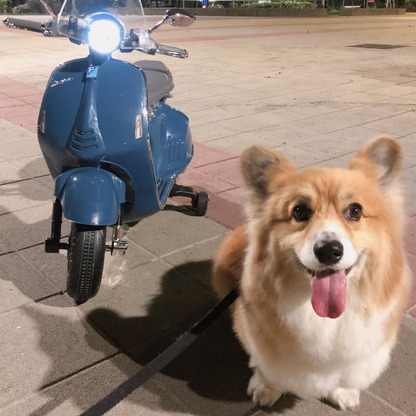Corgi: (219, 130, 405, 409)
